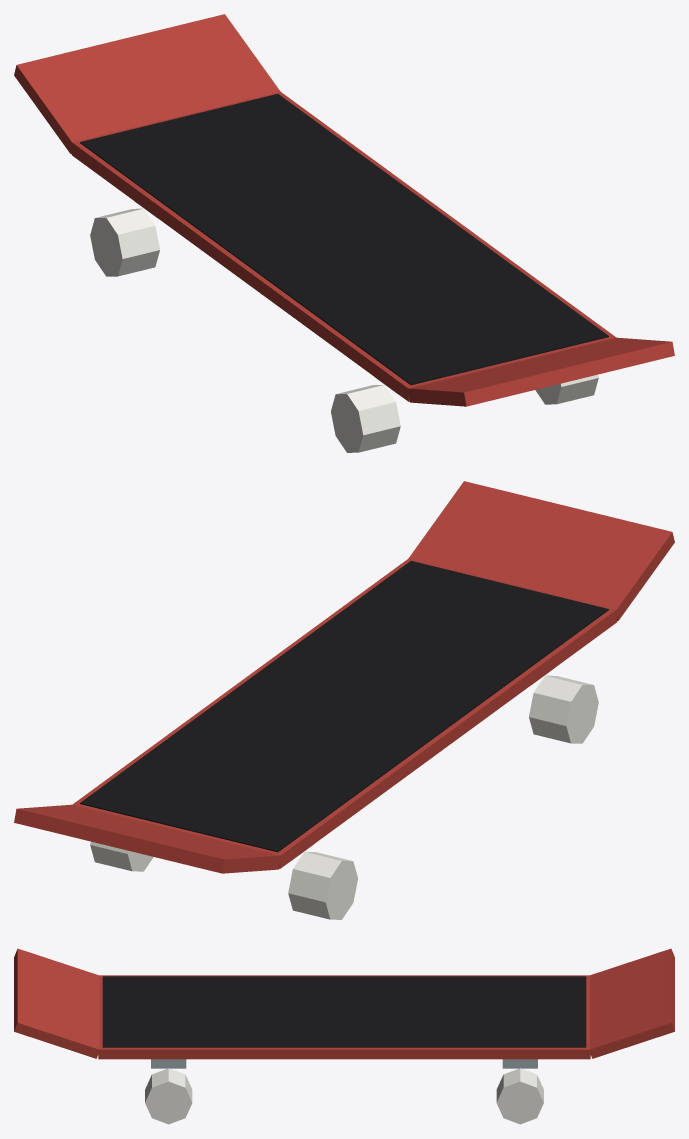
File: GS_Skateboard_01.glb
3 views of the same model, one above another, from view 1: azimuth 30°, elevation 25°; view 2: azimuth 150°, elevation 25°; view 3: azimuth 270°, elevation 25° (orthographic). The views are drawn at different scales.
Parts seen in each view (by area): view 1: GS_Skateboard_01; view 2: GS_Skateboard_01; view 3: GS_Skateboard_01.
Boxes of the visible parts, left/top/right/bottom form: GS_Skateboard_01: left=14, top=14, right=674, bottom=452; GS_Skateboard_01: left=14, top=481, right=674, bottom=919; GS_Skateboard_01: left=14, top=948, right=674, bottom=1124.
Size of the model in its own units: 0.226 by 0.1217 by 0.7521.
1 material, 1 textured.
